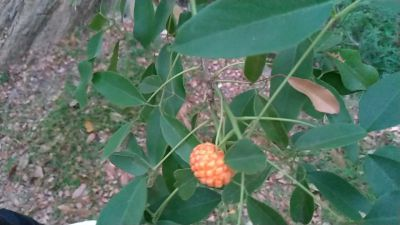eggs: (183, 141, 239, 192)
